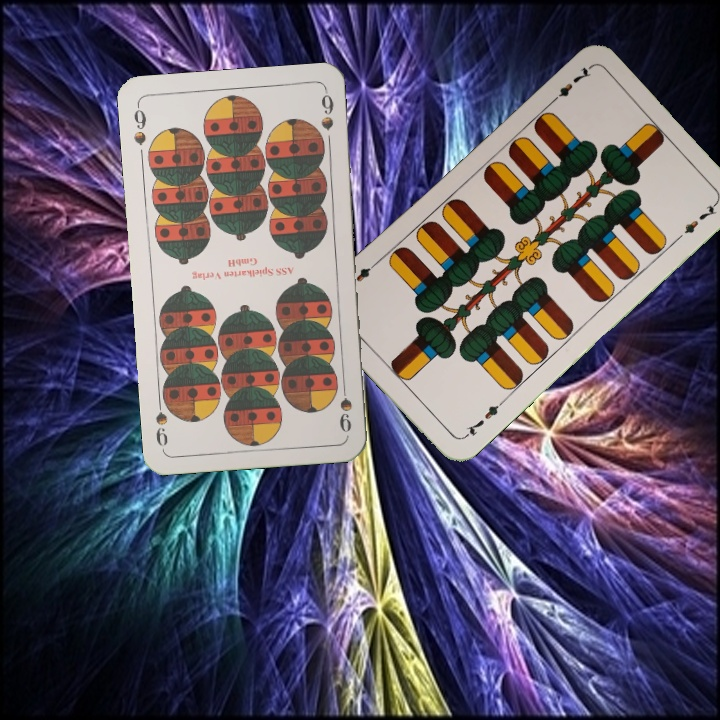E7: (545, 62, 594, 107), (459, 397, 507, 442)
S9: (335, 376, 355, 436), (129, 101, 149, 148)
